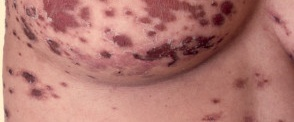SJS-TEN: (2, 0, 242, 121)
